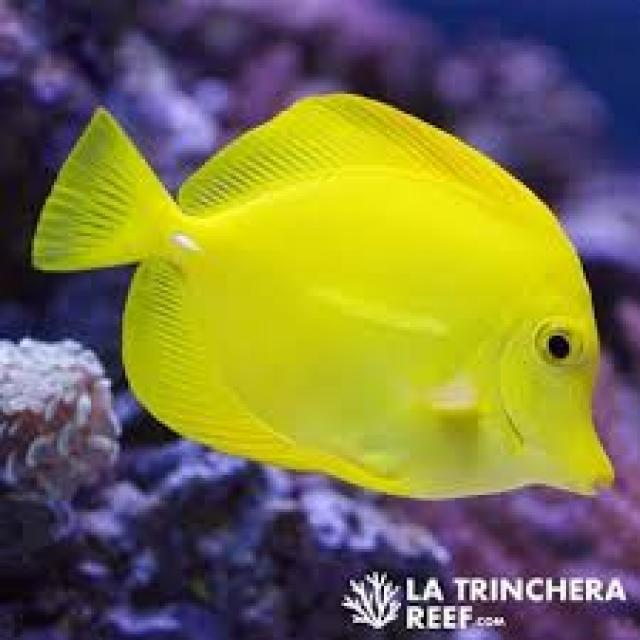TangFish: (34, 83, 616, 513)
